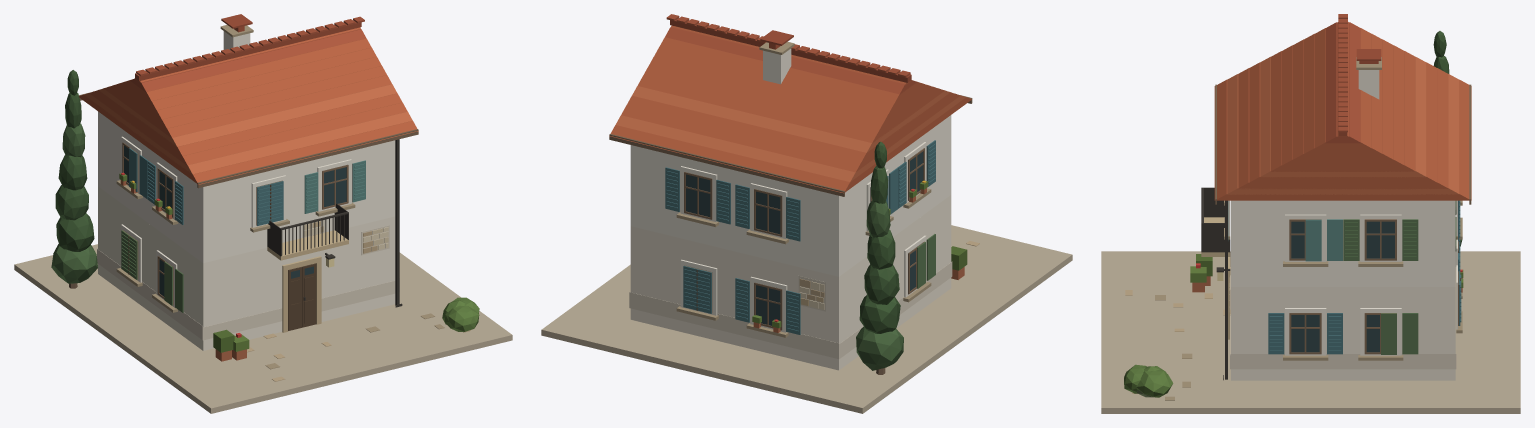
Rendered from ev-badana-iki-katli.glb.
The picture shows the model from 3 angles, left to right: view 1: azimuth 30°, elevation 25°; view 2: azimuth 150°, elevation 25°; view 3: azimuth 270°, elevation 25°; orthographic projection. The views are drawn at different scales.
Visible parts, largest first — view 1: zemin, kiremit1, badana, badana2, kiremit3, kiremit2, badana_kir, servi, ahsap, demir, kepenk, tas2 (+8 smaller); view 2: zemin, kiremit1, badana, badana2, kiremit3, kepenk, badana_kir, kiremit2, servi, ahsap, cam, servi2 (+3 smaller); view 3: zemin, kiremit1, badana, badana2, kiremit3, kiremit2, badana_kir, cam, yesil_kepenk, ahsap, demir, kepenk (+5 smaller).
Part boxes in pixels (<box>): zemin: <box>14,244,512,413</box>; kiremit1: <box>79,27,418,184</box>; badana: <box>98,31,395,308</box>; badana2: <box>98,186,395,350</box>; kiremit3: <box>84,84,412,174</box>; kiremit2: <box>130,16,365,92</box>; badana_kir: <box>97,220,399,340</box>; servi: <box>55,70,94,251</box>; ahsap: <box>79,93,418,305</box>; demir: <box>267,139,402,307</box>; kepenk: <box>129,148,283,225</box>; tas2: <box>267,221,348,332</box>; zemin: <box>541,225,1072,413</box>; kiremit1: <box>609,25,971,193</box>; badana: <box>630,48,951,332</box>; badana2: <box>630,195,951,370</box>; kiremit3: <box>615,86,965,181</box>; kepenk: <box>665,140,935,334</box>; badana_kir: <box>629,261,952,359</box>; kiremit2: <box>665,14,917,94</box>; servi: <box>859,141,900,333</box>; ahsap: <box>609,95,972,330</box>; cam: <box>686,150,923,325</box>; servi2: <box>856,200,903,370</box>; zemin: <box>1101,251,1520,413</box>; kiremit1: <box>1214,22,1471,200</box>; badana: <box>1228,70,1457,355</box>; badana2: <box>1231,287,1455,380</box>; kiremit3: <box>1226,56,1460,194</box>; kiremit2: <box>1325,14,1378,143</box>; badana_kir: <box>1230,251,1456,369</box>; cam: <box>1291,221,1458,352</box>; yesil_kepenk: <box>1343,219,1418,354</box>; ahsap: <box>1215,84,1471,354</box>; demir: <box>1201,187,1230,380</box>; kepenk: <box>1268,200,1461,354</box>.
Size of the model in its own units: 11.5 by 9.64 by 13.
